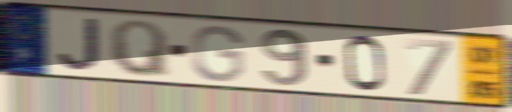0: (342, 33, 386, 93)
7: (404, 36, 454, 97)
9: (258, 27, 310, 89)
G: (190, 23, 246, 84)
J: (55, 16, 104, 73)
Q: (107, 18, 173, 80)
